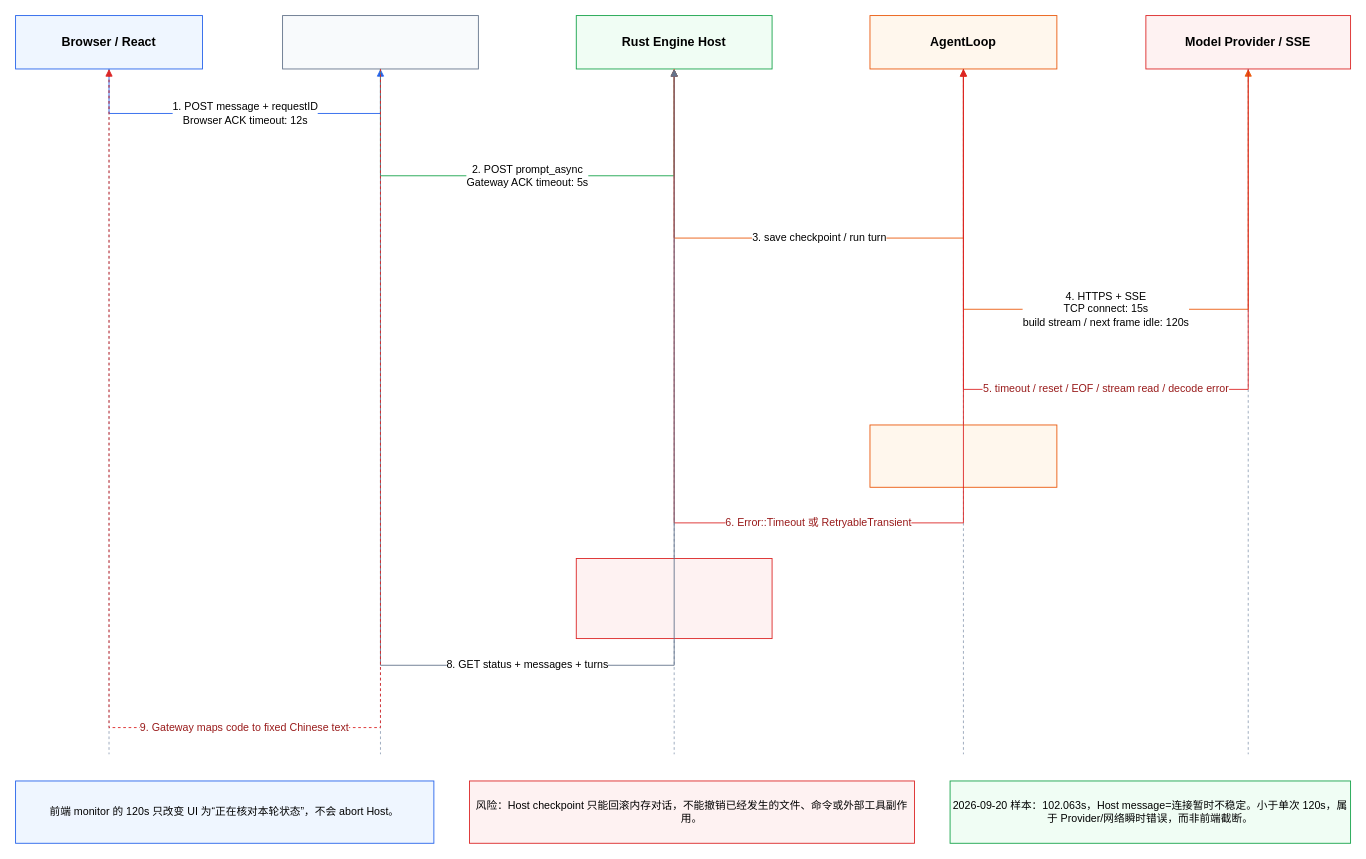
Some shapes in this 1366 by 859 pixel diagram are drawn without their labels. Here are the shapes that lost their labels. From the top down, the box of each, then its label:
(282, 15, 478, 69): AI Office Gateway
(869, 424, 1057, 487): 无 TextDelta：最多重试 3 次 已有正文：不重放，直接失败
(575, 558, 772, 639): 7. session = checkpoint persist failed turn outcome code = provider_timeout
